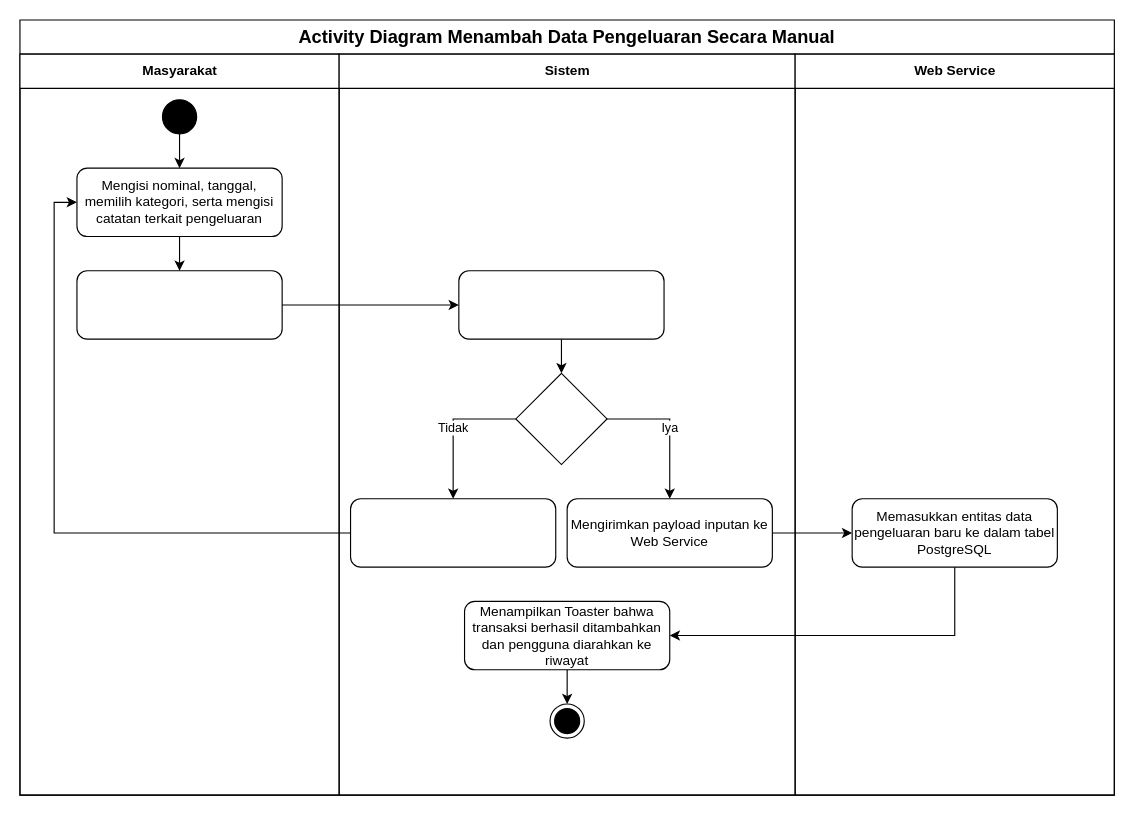
Some shapes in this 1134 by 815 pixel diagram are drawn without their labels. Here are the shapes that lost their labels. From the top down, the centre of each, then its label:
point 179,304: Menekan tombol "Simpan" pada antarmuka
point 561,304: Memvalidasi keabsahan data secara lokal (seperti nominal lebih dari nol)
point 561,418: Valid?
point 452,532: aplikasi memunculkan pesan validasi agar pengguna segera memperbaikinya
